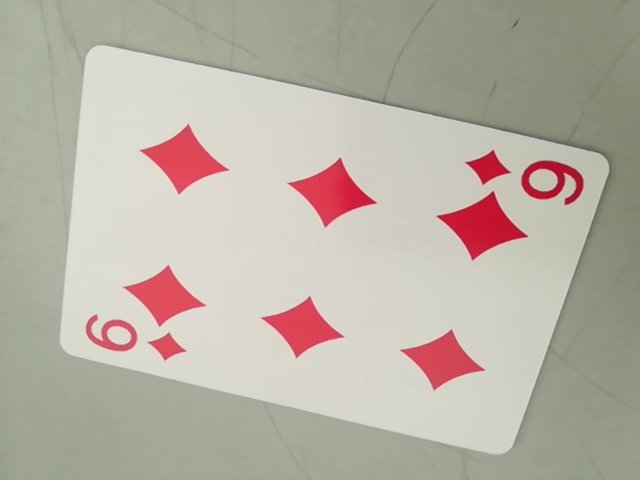fk 6: (463, 149, 590, 203), (74, 314, 194, 366)
